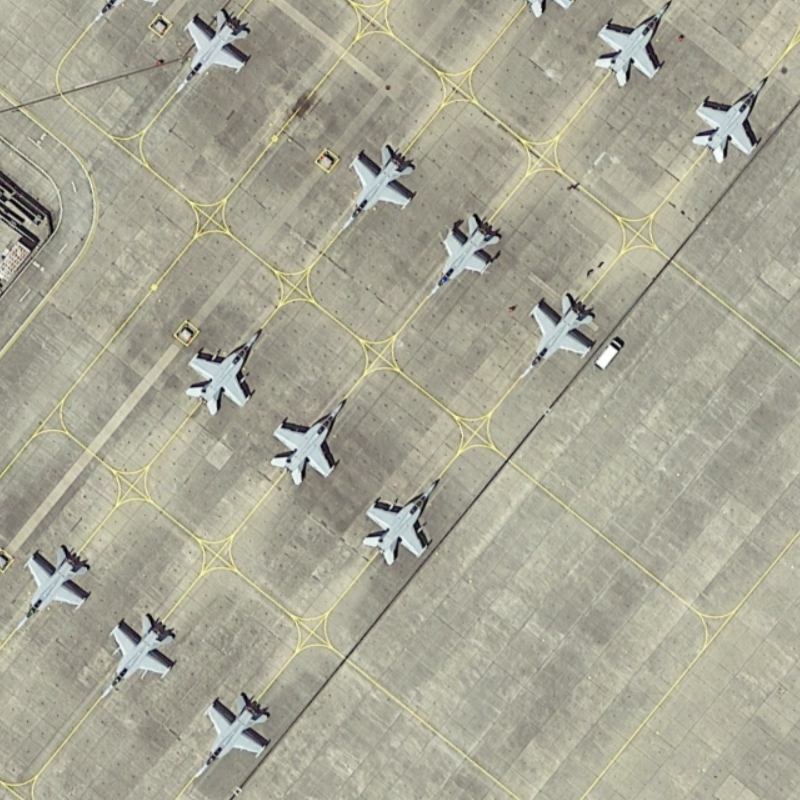A16: (511, 286, 604, 395), (176, 316, 271, 419), (331, 138, 425, 241), (186, 681, 275, 789), (682, 70, 773, 172), (165, 5, 255, 106), (94, 606, 180, 708), (590, 1, 682, 94), (10, 538, 93, 641), (360, 472, 445, 572), (263, 393, 351, 489), (421, 211, 507, 309)
